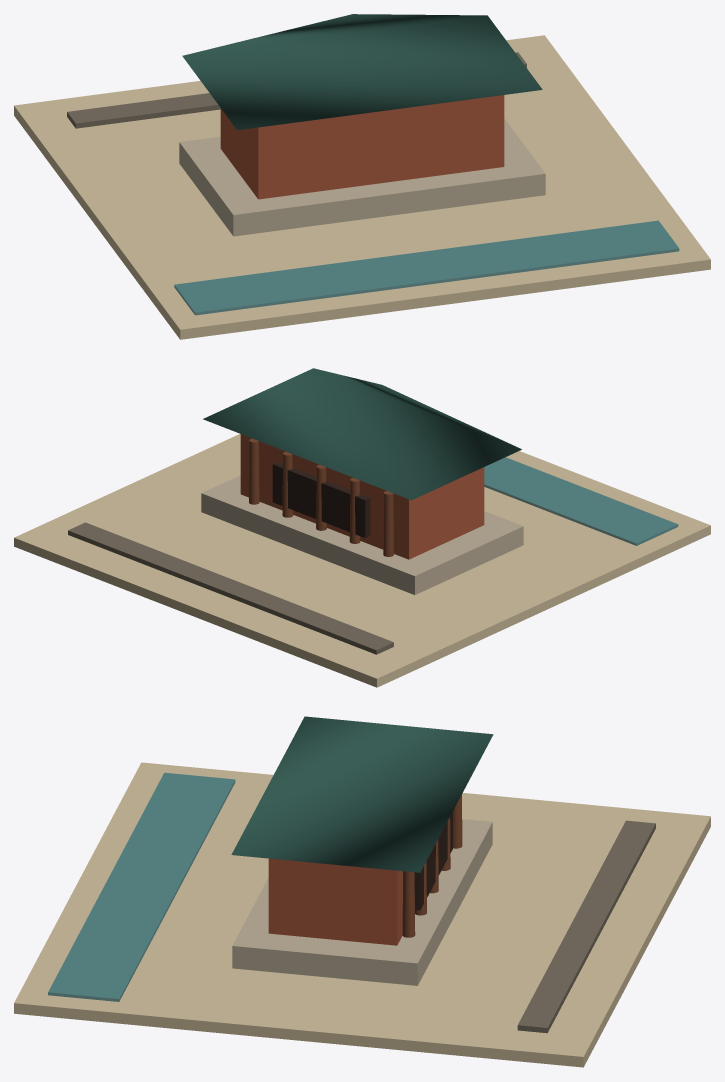
File: model-medium.glb
3 renders of one model, top to bottom at view 1: azimuth 30°, elevation 25°; view 2: azimuth 150°, elevation 25°; view 3: azimuth 270°, elevation 25°, orthographic. The views are drawn at different scales.
Parts seen in each view (by area): view 1: context_site_plinth, sweeping_tiled_roof, main_hall_wall_volume, context_water_edge, raised_ceremonial_platform, front_scale_strip; view 2: context_site_plinth, sweeping_tiled_roof, raised_ceremonial_platform, main_hall_wall_volume, context_water_edge, front_scale_strip, central_shadow_door, front_column_1, front_column_5, front_column_3; view 3: context_site_plinth, sweeping_tiled_roof, context_water_edge, raised_ceremonial_platform, main_hall_wall_volume, front_scale_strip, central_shadow_door, front_column_5.
Part boxes in pixels (x1,y1,x2,y2): context_site_plinth: (14, 35, 710, 339); sweeping_tiled_roof: (182, 14, 542, 130); main_hall_wall_volume: (220, 95, 504, 199); context_water_edge: (174, 220, 679, 315); raised_ceremonial_platform: (179, 118, 545, 236); front_scale_strip: (67, 52, 526, 128); context_site_plinth: (14, 434, 710, 687); sweeping_tiled_roof: (203, 368, 521, 500); raised_ceremonial_platform: (201, 475, 523, 594); main_hall_wall_volume: (240, 434, 484, 559); context_water_edge: (484, 457, 678, 545); front_scale_strip: (68, 522, 393, 654); central_shadow_door: (272, 462, 370, 537); front_column_1: (383, 491, 393, 556); front_column_5: (249, 438, 259, 504); front_column_3: (316, 464, 326, 530); context_site_plinth: (14, 762, 710, 1067); sweeping_tiled_roof: (231, 716, 493, 872); context_water_edge: (48, 772, 235, 1001); raised_ceremonial_platform: (232, 819, 492, 985); main_hall_wall_volume: (268, 858, 402, 945); front_scale_strip: (517, 820, 655, 1033); central_shadow_door: (414, 811, 452, 910); front_column_5: (402, 871, 415, 937).
Size of the model in its own units: 9.55 by 2.62 by 9.55.
